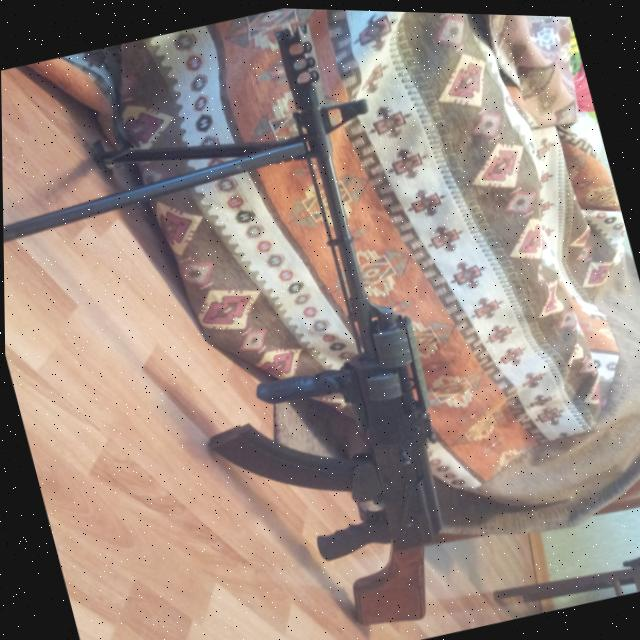firearm: (110, 5, 496, 640)
